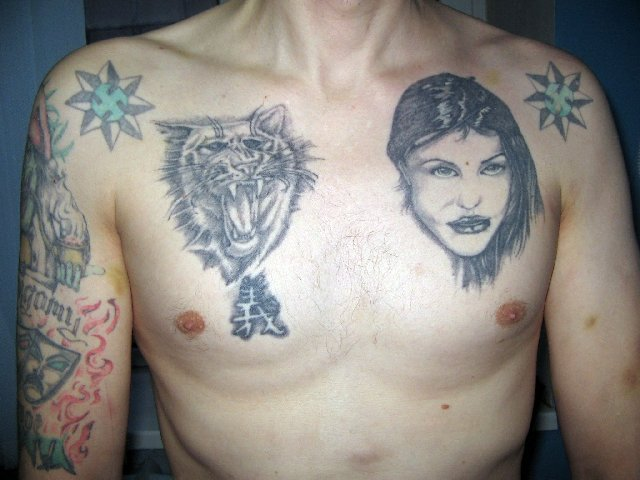tatu3_bukva: (19, 279, 90, 345), (232, 277, 289, 342)
tatu4_zvezda: (65, 60, 154, 154), (524, 62, 593, 140)
tatu5_tigr: (147, 103, 324, 287)
